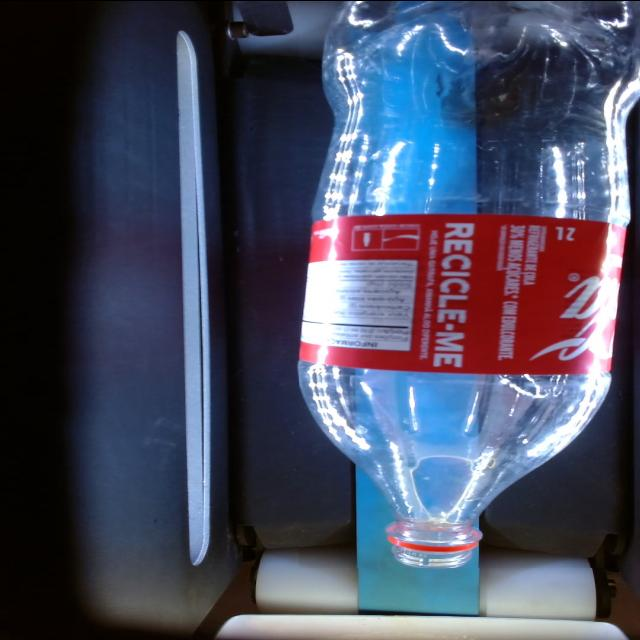bottle: (300, 1, 637, 566)
